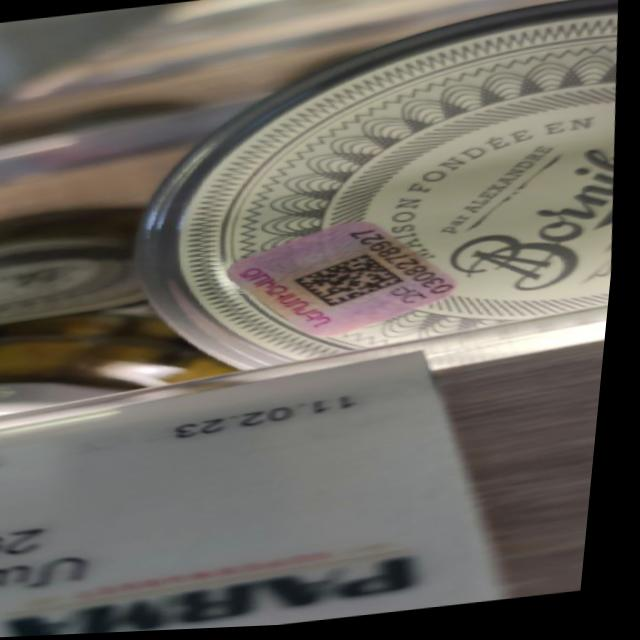datamatrix: (291, 253, 414, 315)
